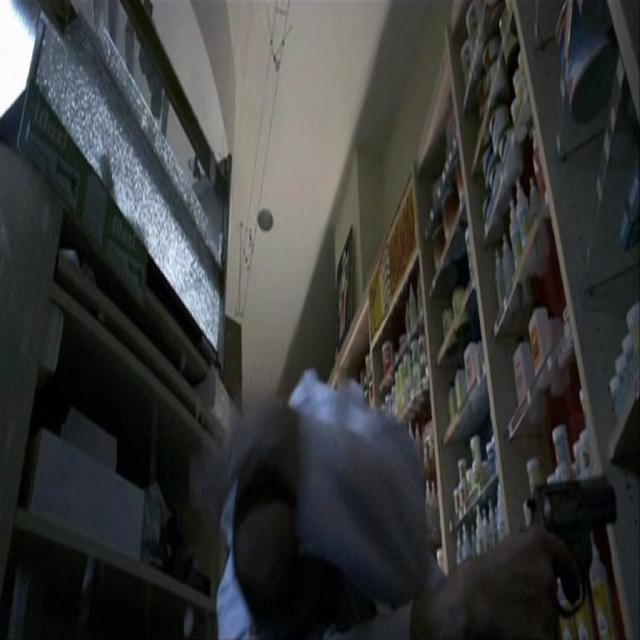gun-knife-thesis - v11 Yolov5 augmented: (504, 444, 636, 638)
